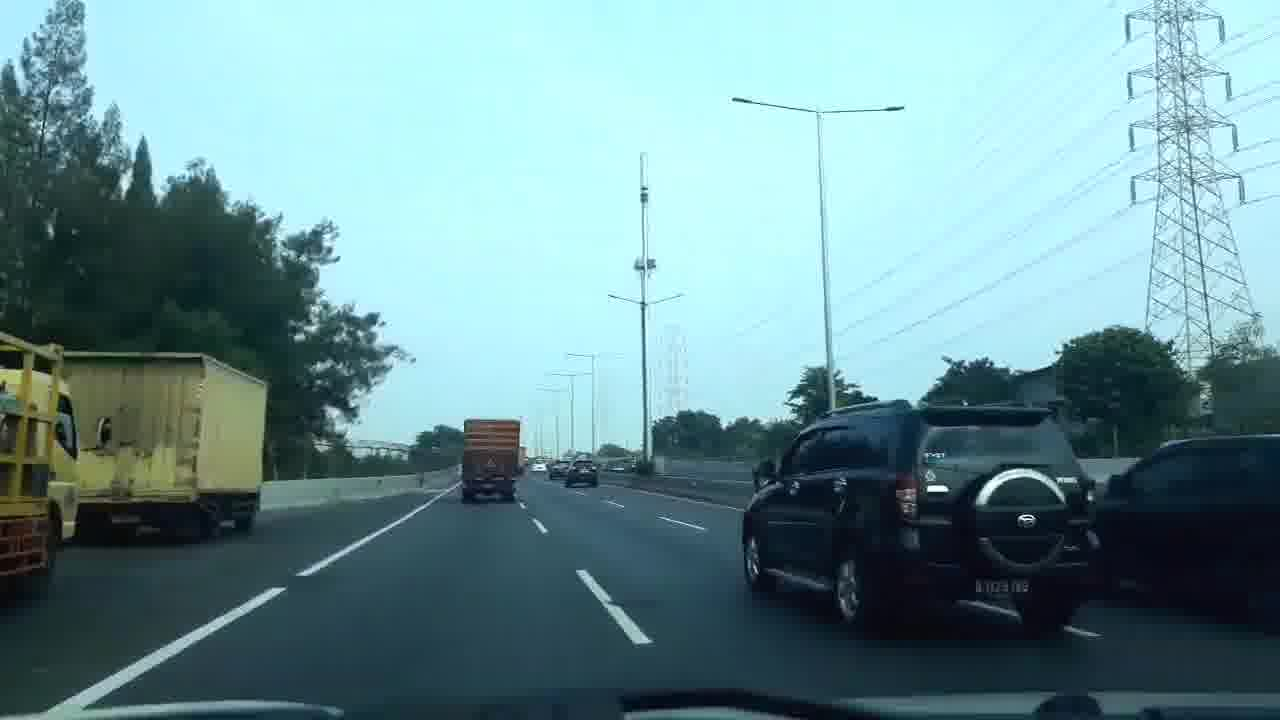plate_positive: (975, 576, 1031, 594)
